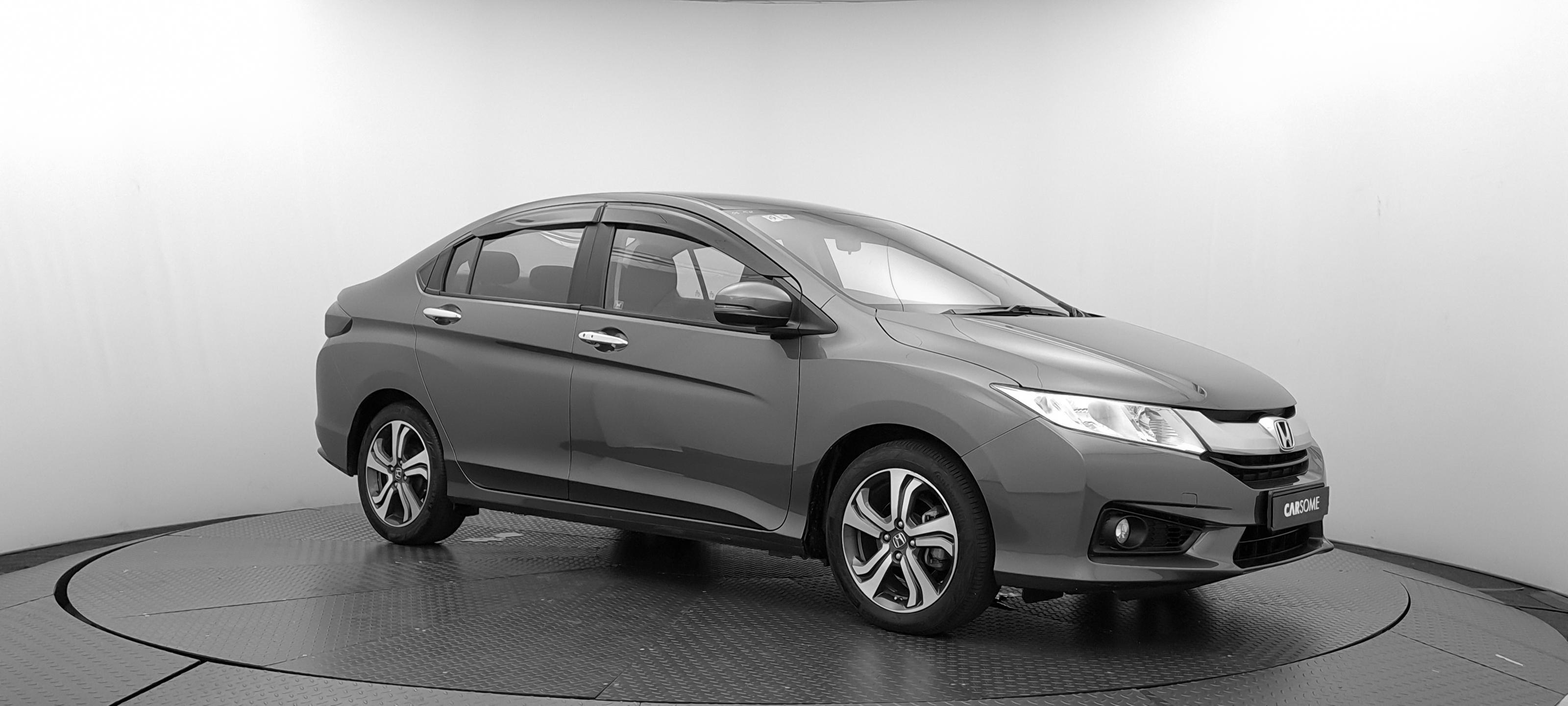Car hood: (867, 308, 1301, 414)
Driver-s door - -F-R-: (565, 178, 809, 562)
Fender - -F-R-: (782, 287, 1043, 568)
Front bumper: (959, 417, 1335, 599)
Headlight - -R-: (991, 386, 1211, 460)
Passenger-s door - -R-R-: (403, 177, 604, 547)
Rear bumper: (308, 342, 372, 484)
Rear light - -R-: (320, 297, 352, 342)
Side bumper - -R-: (437, 451, 812, 574)
Side mirror - -R-: (705, 276, 798, 339)
